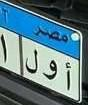1: (0, 34, 10, 64)
أ: (63, 62, 74, 91)
ل: (24, 46, 44, 75)
و: (41, 56, 62, 78)
